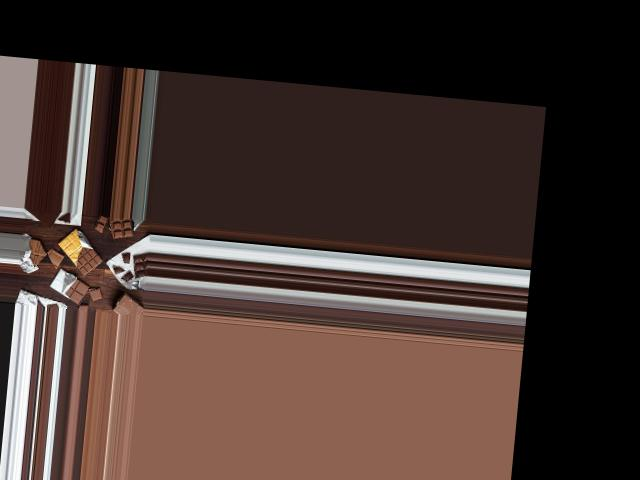chocolate: (50, 267, 90, 308)
